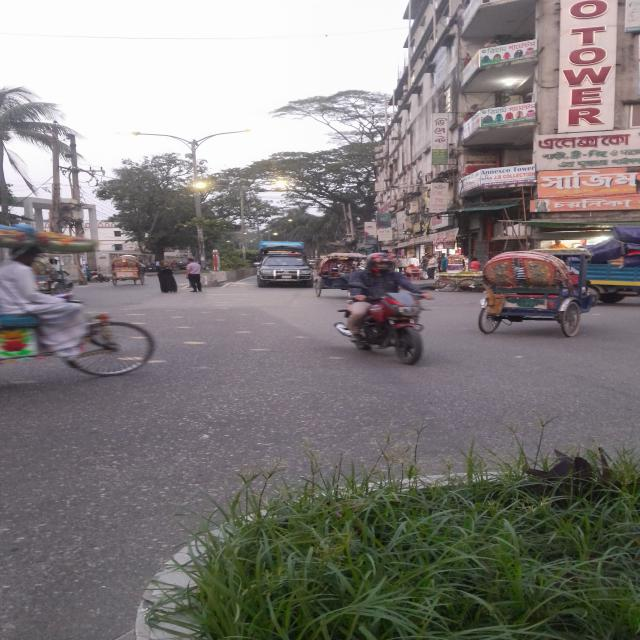person: (157, 261, 178, 293), (186, 258, 202, 292)
